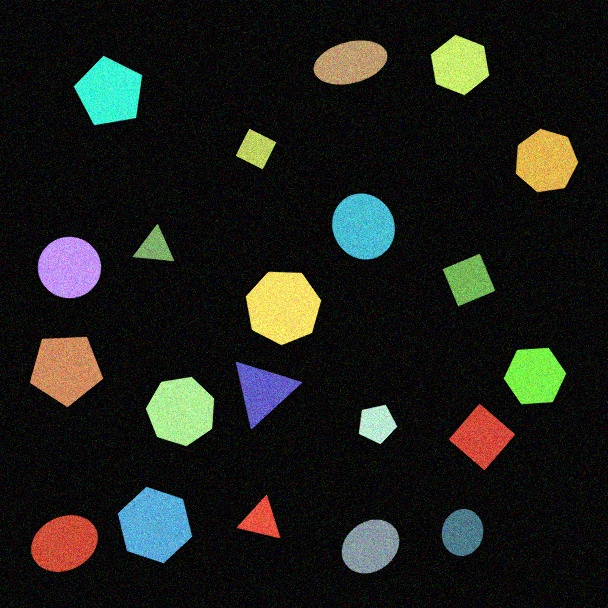Circulo: (331, 193, 396, 260), (37, 236, 102, 299), (441, 508, 484, 557)
Elipse: (30, 514, 99, 573), (313, 40, 388, 85), (341, 519, 400, 574)
Heptagono: (245, 271, 322, 346), (145, 376, 215, 447), (515, 128, 579, 193)
Hexagono: (117, 486, 193, 564), (430, 34, 490, 96), (503, 347, 567, 405)
Pentagono: (29, 336, 104, 408), (73, 55, 143, 126), (358, 404, 398, 445)
Quadrado: (448, 403, 516, 471), (442, 253, 496, 307), (235, 128, 277, 170)
Triangulo: (235, 361, 303, 430), (236, 495, 281, 539), (132, 224, 175, 262)
